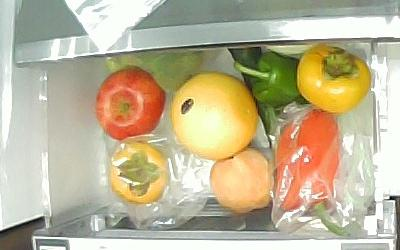apple: (94, 66, 165, 140)
broccoli: (104, 49, 203, 94)
cucumber: (228, 48, 289, 150)
grapefruit: (170, 71, 259, 160)
paprika: (233, 51, 310, 108)
paprika_vinyl: (275, 110, 353, 238)
peach: (209, 149, 274, 212)
persimmon: (296, 45, 371, 114)
persimmon_vinyl: (109, 143, 168, 204)
